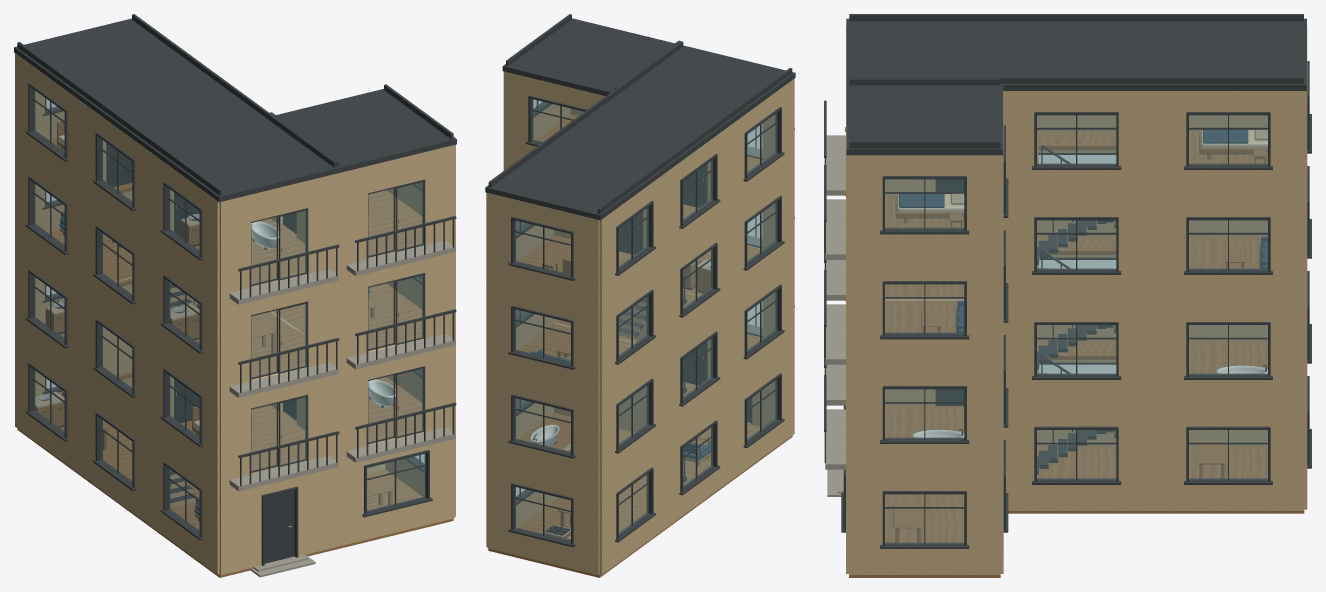
File: bld-shophouse-e65c1582834d.glb
The picture shows the model from 3 angles, left to right: view 1: azimuth 30°, elevation 25°; view 2: azimuth 150°, elevation 25°; view 3: azimuth 270°, elevation 25°; orthographic projection. The views are drawn at different scales.
Parts seen in each view (by area): view 1: surface_plaster, surface_graphite, surface_Optical_smoke, surface_oak, surface_stone, surface_porcelain, surface_terrazzo; view 2: surface_plaster, surface_graphite, surface_Optical_smoke, surface_oak, surface_denim, surface_porcelain; view 3: surface_plaster, surface_graphite, surface_Optical_smoke, surface_oak, surface_stone, surface_denim, surface_ivory, surface_porcelain.
Boxes of the visible parts, bbox=[...] form: surface_plaster: bbox=[15, 53, 455, 575]; surface_graphite: bbox=[14, 14, 456, 565]; surface_Optical_smoke: bbox=[33, 90, 425, 531]; surface_oak: bbox=[17, 120, 453, 577]; surface_stone: bbox=[229, 240, 455, 577]; surface_porcelain: bbox=[251, 221, 395, 406]; surface_terrazzo: bbox=[35, 218, 199, 408]; surface_plaster: bbox=[486, 71, 794, 575]; surface_graphite: bbox=[485, 14, 795, 547]; surface_Optical_smoke: bbox=[515, 99, 776, 541]; surface_oak: bbox=[488, 114, 792, 577]; surface_denim: bbox=[530, 349, 710, 460]; surface_porcelain: bbox=[530, 424, 559, 446]; surface_plaster: bbox=[846, 26, 1307, 574]; surface_graphite: bbox=[824, 14, 1311, 548]; surface_Optical_smoke: bbox=[885, 115, 1267, 543]; surface_oak: bbox=[849, 132, 1304, 577]; surface_stone: bbox=[825, 135, 845, 496]; surface_denim: bbox=[899, 129, 1267, 332]; surface_ivory: bbox=[897, 129, 1267, 211]; surface_porcelain: bbox=[912, 365, 1267, 437].
Size of the model in its own units: 8.39 by 12.66 by 12.85.
Materials: 14 (6 with a texture image).
